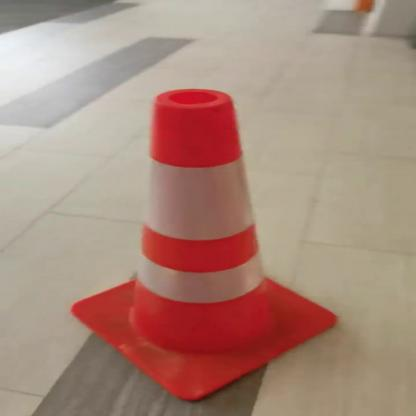cone: (62, 86, 343, 404)
